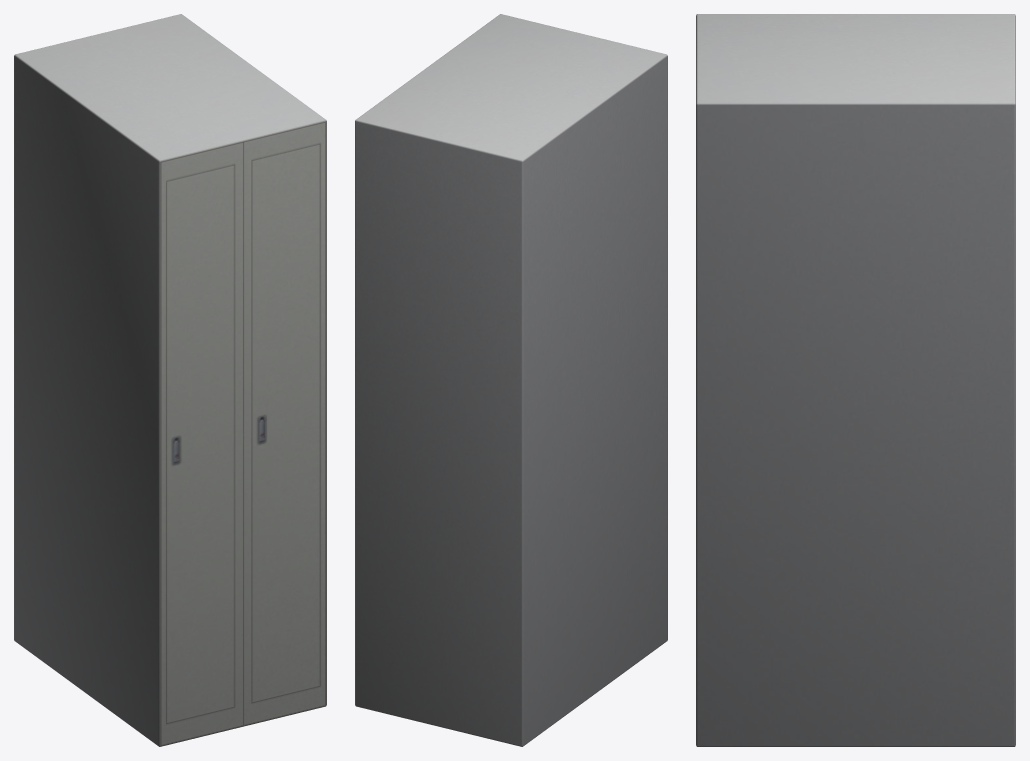
File: ups60.obj
3 views of the same model, side by side, from view 1: azimuth 30°, elevation 25°; view 2: azimuth 150°, elevation 25°; view 3: azimuth 270°, elevation 25° (orthographic). The views are drawn at different scales.
Visible parts, largest first — view 1: ChamferBox02; view 2: ChamferBox02; view 3: ChamferBox02.
Part boxes in pixels (x1,y1,x2,y2): ChamferBox02: (14, 14, 326, 746); ChamferBox02: (355, 14, 667, 746); ChamferBox02: (696, 14, 1015, 746).
Size of the model in its own units: 60 by 200 by 90.
